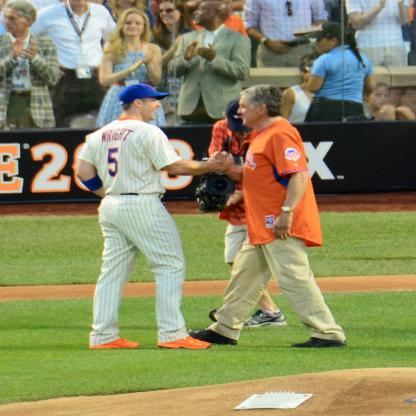Camera: (197, 156, 248, 214)
